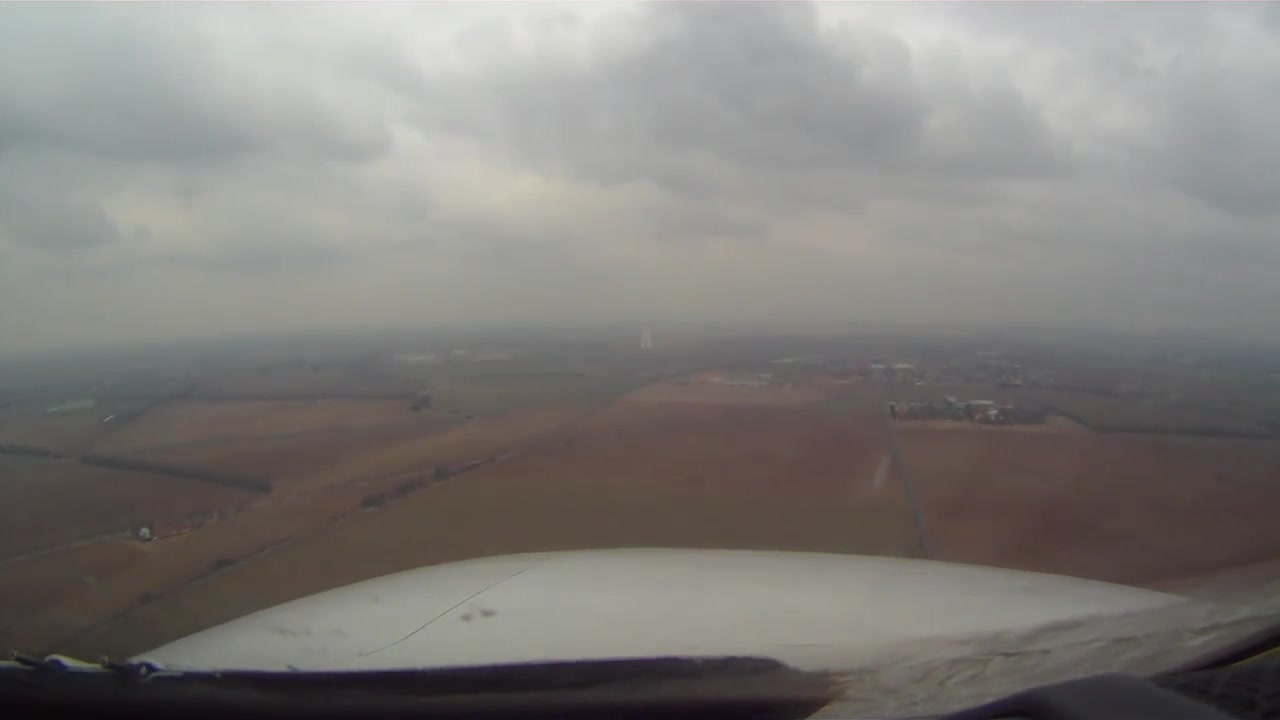runway: (638, 326, 655, 352)
